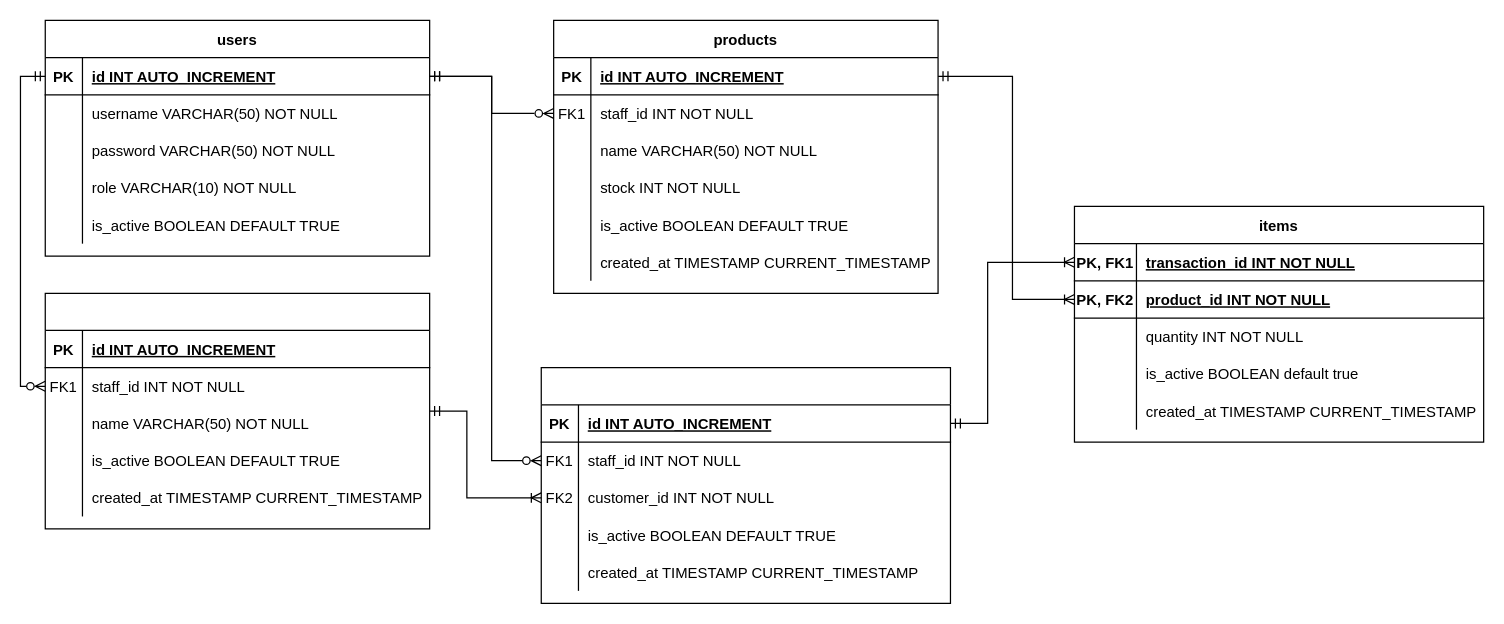
Image size: 1504x624. Some labels were removed from this diagram. Here are the shapes that lost their labels. From the top down, the box of each, then its label:
(44, 292, 430, 529): customers
(540, 366, 950, 603): transactions
